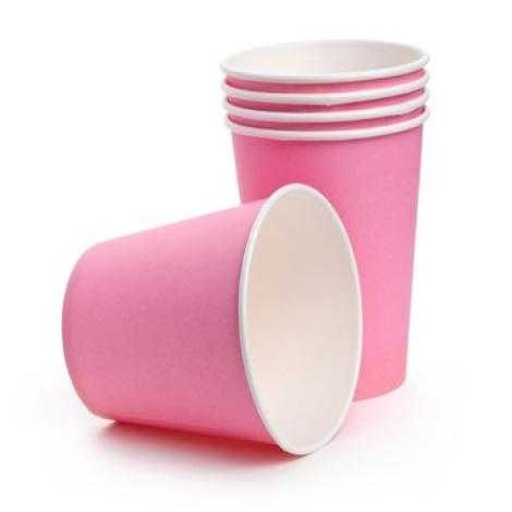cup: (62, 182, 365, 459), (217, 37, 431, 401)
